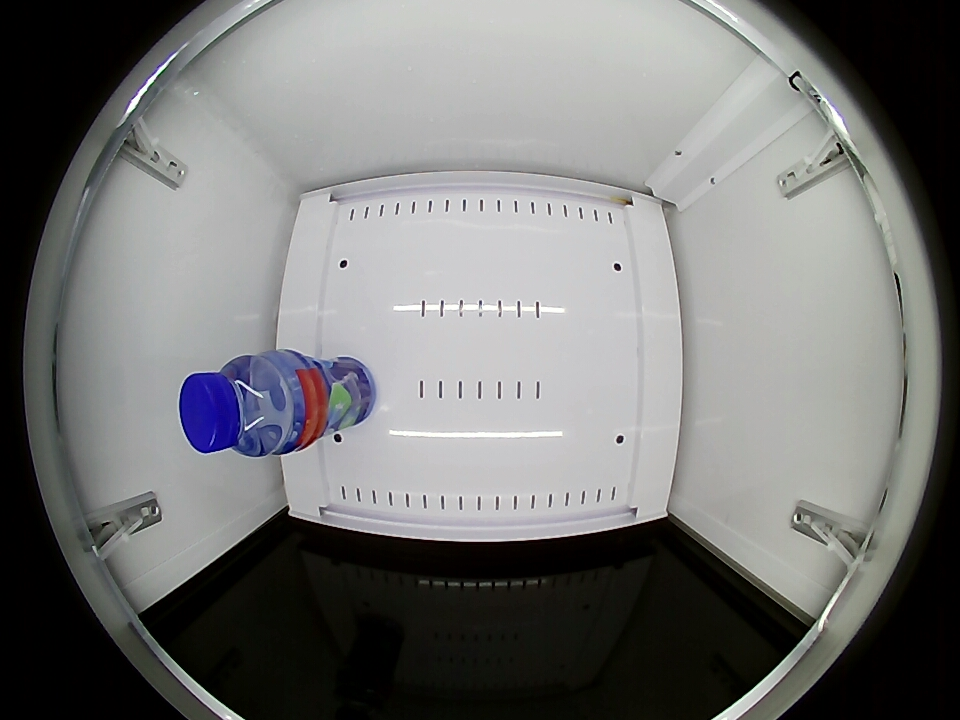maidong: (180, 353, 303, 457)
